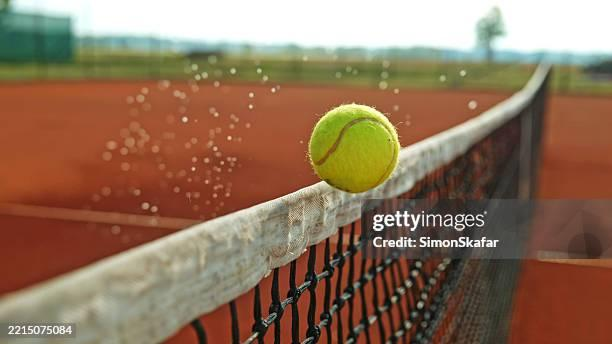ball_tennis: (308, 100, 400, 199)
